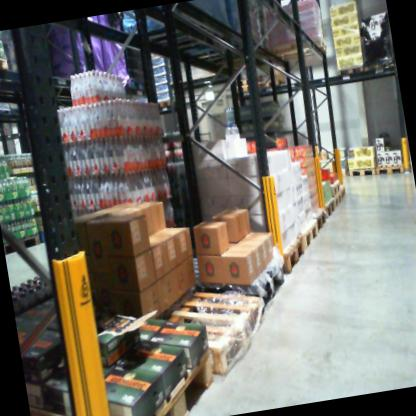pallet: (11, 260, 226, 416), (123, 249, 275, 389), (161, 239, 294, 332), (263, 27, 328, 67), (271, 228, 308, 276), (2, 224, 43, 263), (294, 219, 325, 268), (371, 159, 408, 185), (334, 60, 369, 85), (346, 158, 379, 184), (303, 202, 327, 235), (362, 56, 395, 76), (315, 196, 339, 223), (156, 92, 176, 120), (232, 70, 265, 85), (254, 73, 282, 90), (334, 182, 352, 205), (325, 174, 342, 195), (331, 186, 346, 209), (234, 82, 257, 96), (0, 46, 11, 74)
